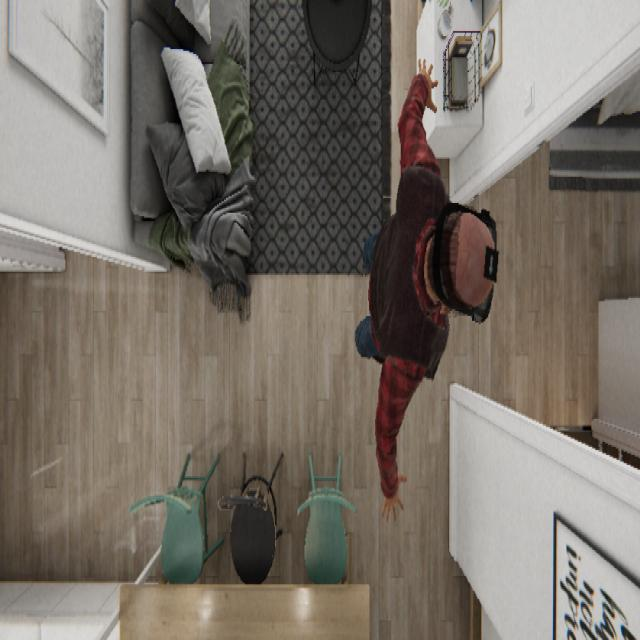Human: (354, 56, 498, 522)
UnityLogo: (482, 242, 498, 282)
